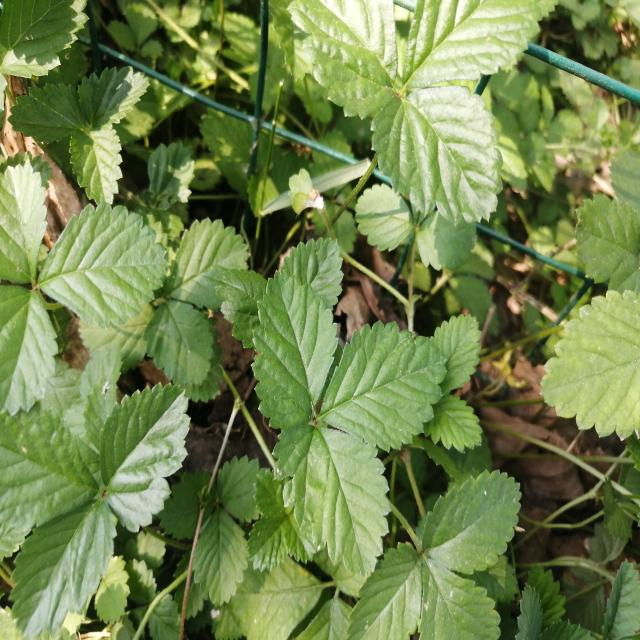Mock_strawberry: (247, 257, 438, 574)
